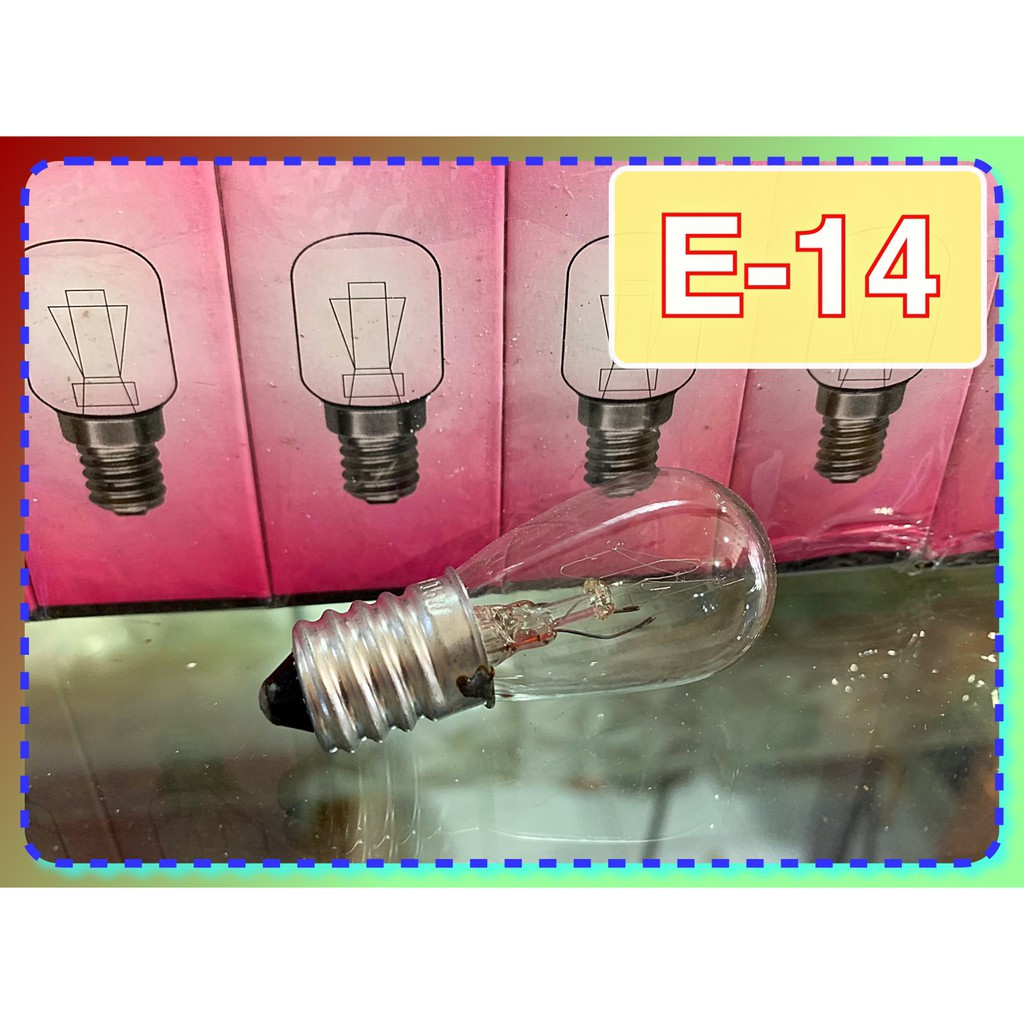Light_bulb: (249, 455, 791, 770)
